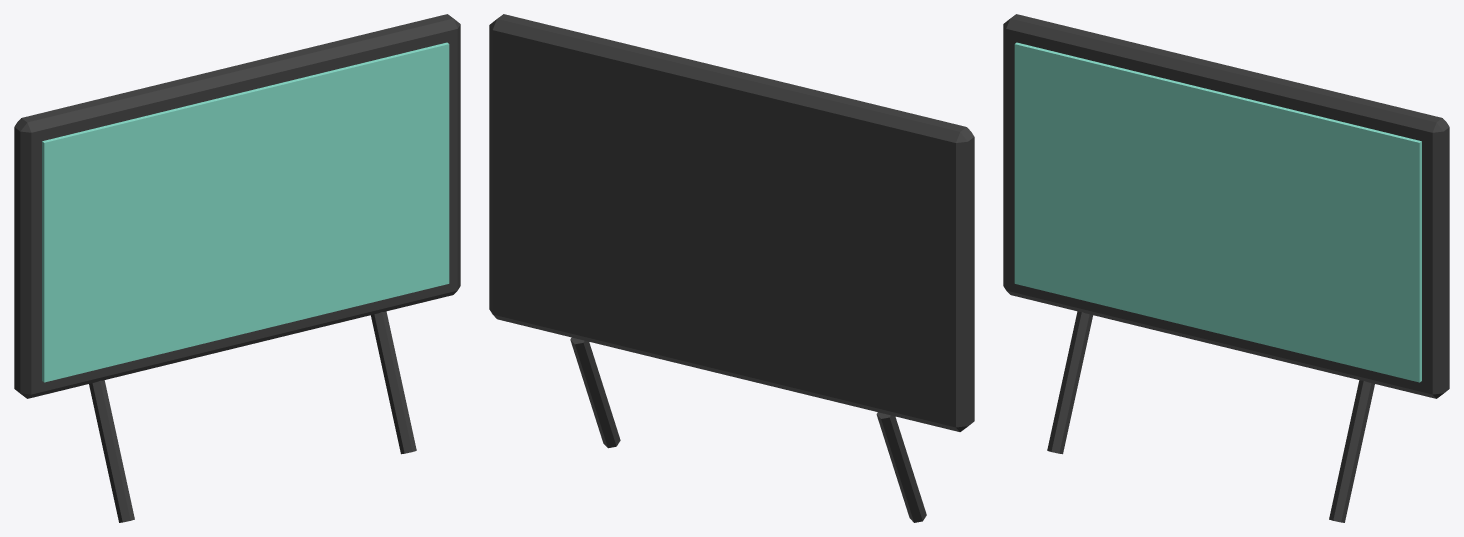
3 renders of one model, left to right at view 1: azimuth 30°, elevation 25°; view 2: azimuth 150°, elevation 25°; view 3: azimuth 330°, elevation 25°, orthographic. The views are drawn at different scales.
Parts seen in each view (by area): view 1: Screen, TV frame, Foot, Foot.001; view 2: TV frame, Foot, Foot.001; view 3: Screen, TV frame, Foot, Foot.001.
Boxes of the visible parts, x1,y1,x2,y2 form: Screen: [42, 42, 449, 382]; TV frame: [14, 14, 460, 398]; Foot: [89, 380, 134, 522]; Foot.001: [371, 311, 416, 454]; TV frame: [489, 14, 974, 431]; Foot: [876, 412, 926, 522]; Foot.001: [570, 337, 620, 448]; Screen: [1014, 42, 1421, 382]; TV frame: [1003, 14, 1449, 398]; Foot: [1047, 311, 1092, 454]; Foot.001: [1329, 380, 1374, 522].
Size of the model in its own units: 1.25 by 1.08 by 0.2031.
Materials: 1 (1 with a texture image).
